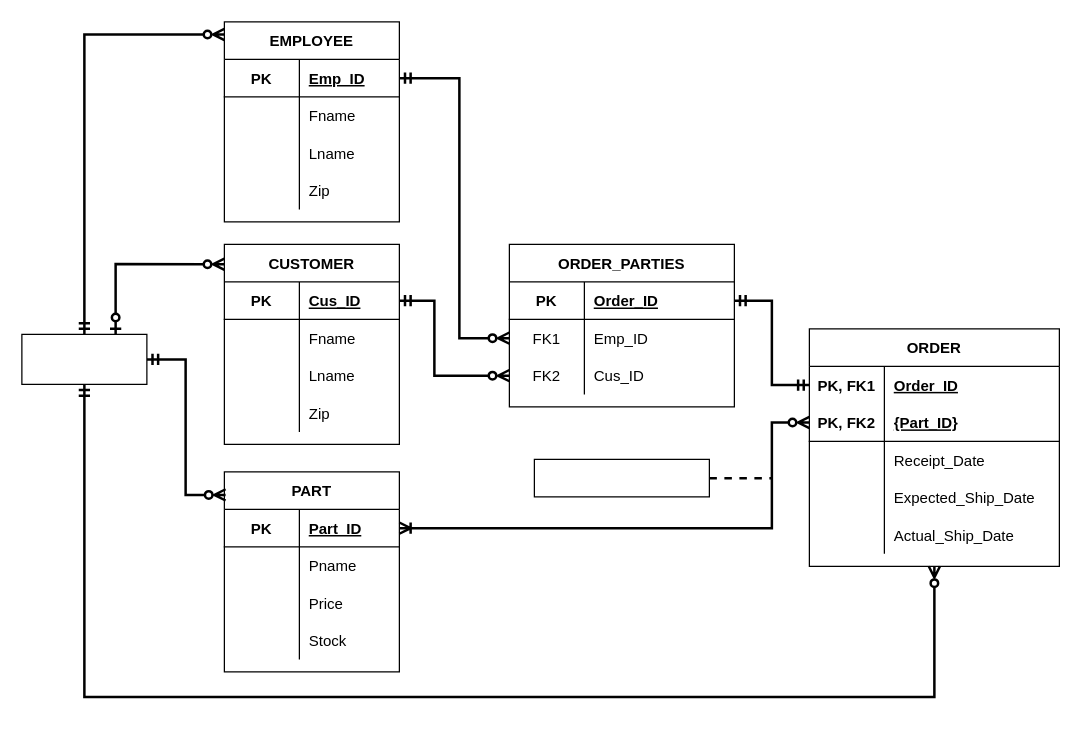
Some shapes in this 1081 by 731 pixel diagram are drawn without their labels. Each missing label, with the centre of its shape:
COMPANY: point (84, 358)
Quantity: point (621, 477)
